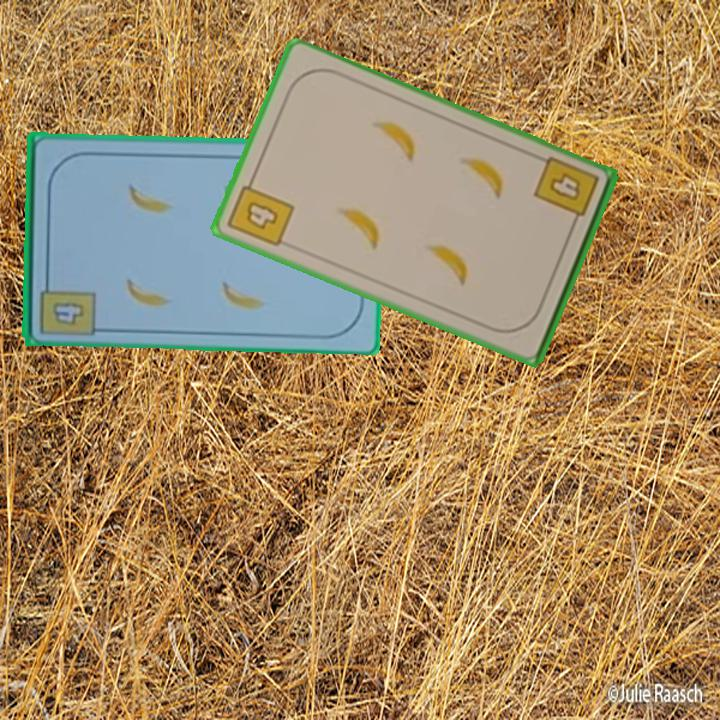4b: (530, 152, 602, 232), (224, 172, 297, 250), (49, 298, 88, 328)
